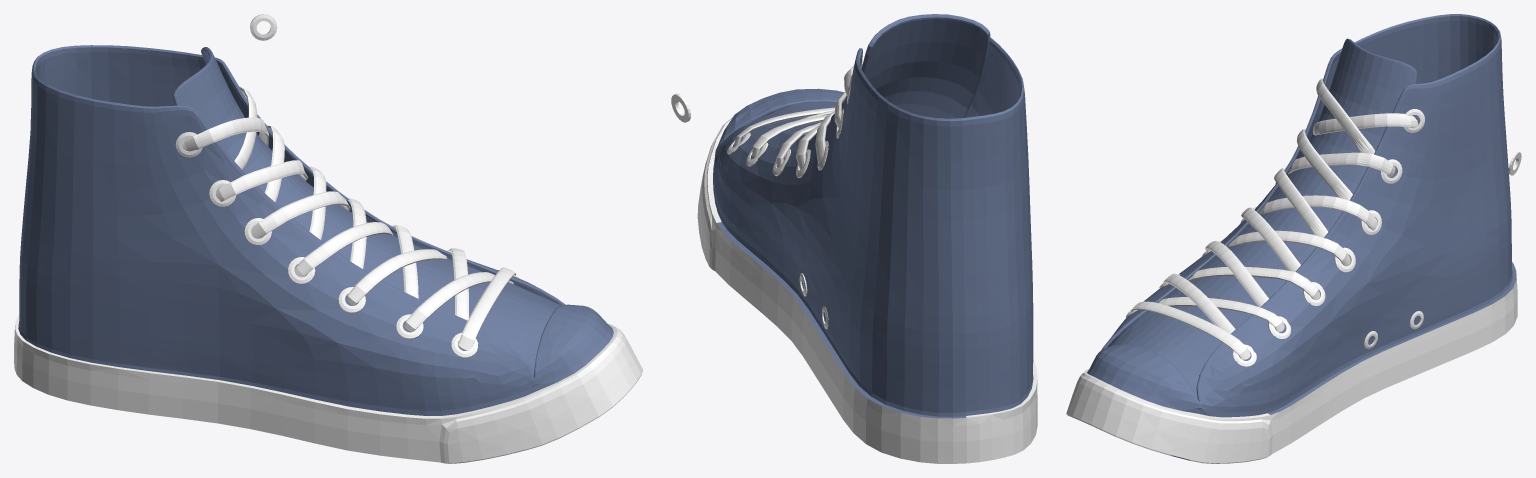
File: sneaker.glb
3 renders of one model, left to right at view 1: azimuth 30°, elevation 25°; view 2: azimuth 150°, elevation 25°; view 3: azimuth 270°, elevation 25°, orthographic. The views are drawn at different scales.
Visible parts, largest first — view 1: Sneakers_rConv_converse1, Sneakers_rConv_laces1, Sneakers_rConv_conv_tongue1; view 2: Sneakers_rConv_converse1, Sneakers_rConv_conv_tongue1, Sneakers_rConv_laces1, rivet1_lConv_Sneakers; view 3: Sneakers_rConv_converse1, Sneakers_rConv_conv_tongue1, Sneakers_rConv_laces1.
Boxes of the visible parts, x1=… form: Sneakers_rConv_converse1: x1=14, y1=45, x2=642, y2=463; Sneakers_rConv_laces1: x1=182, y1=85, x2=515, y2=350; Sneakers_rConv_conv_tongue1: x1=172, y1=47, x2=560, y2=375; Sneakers_rConv_converse1: x1=697, y1=37, x2=1037, y2=463; Sneakers_rConv_conv_tongue1: x1=749, y1=14, x2=990, y2=133; Sneakers_rConv_laces1: x1=734, y1=61, x2=863, y2=169; rivet1_lConv_Sneakers: x1=671, y1=93, x2=690, y2=122; Sneakers_rConv_converse1: x1=1066, y1=14, x2=1517, y2=463; Sneakers_rConv_conv_tongue1: x1=1109, y1=38, x2=1416, y2=397; Sneakers_rConv_laces1: x1=1131, y1=78, x2=1418, y2=359.
Size of the model in its own units: 226 by 160 by 221.
